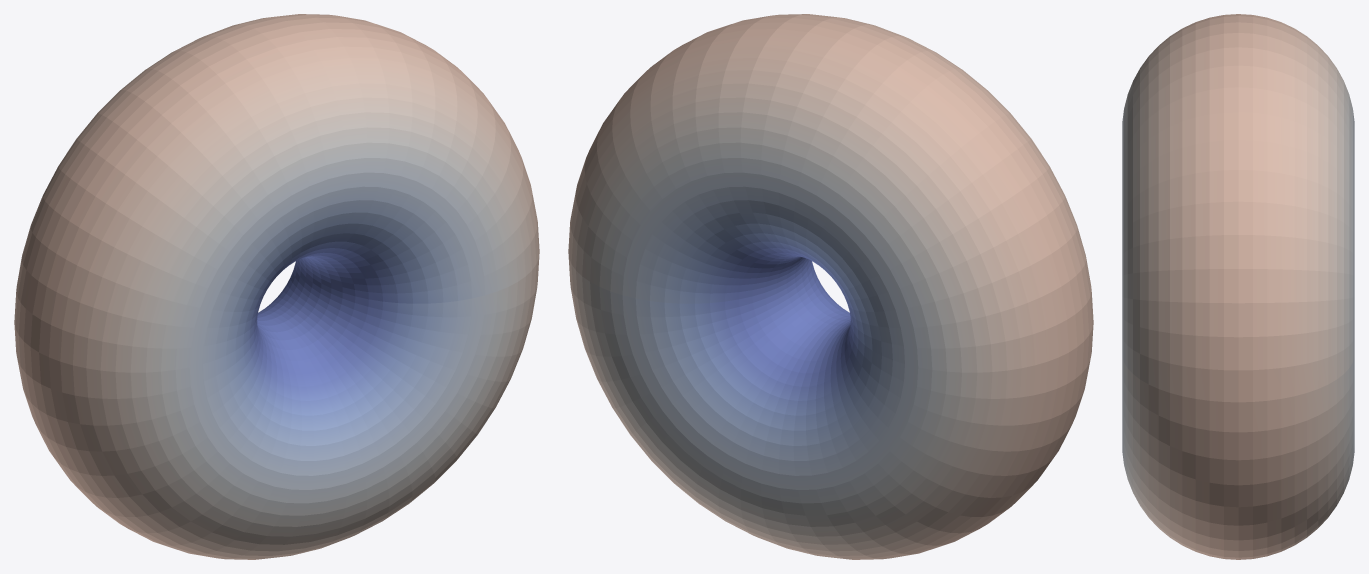
The picture shows the model from 3 angles, left to right: view 1: azimuth 30°, elevation 25°; view 2: azimuth 150°, elevation 25°; view 3: azimuth 270°, elevation 25°; orthographic projection. The views are drawn at different scales.
Visible parts, largest first — view 1: world; view 2: world; view 3: world.
Boxes of the visible parts, <box> form: world: <box>14,14,539,559</box>; world: <box>568,14,1093,559</box>; world: <box>1122,14,1354,559</box>.
Bounding box in the file's own units: 20.93 × 20.89 × 8.92.
